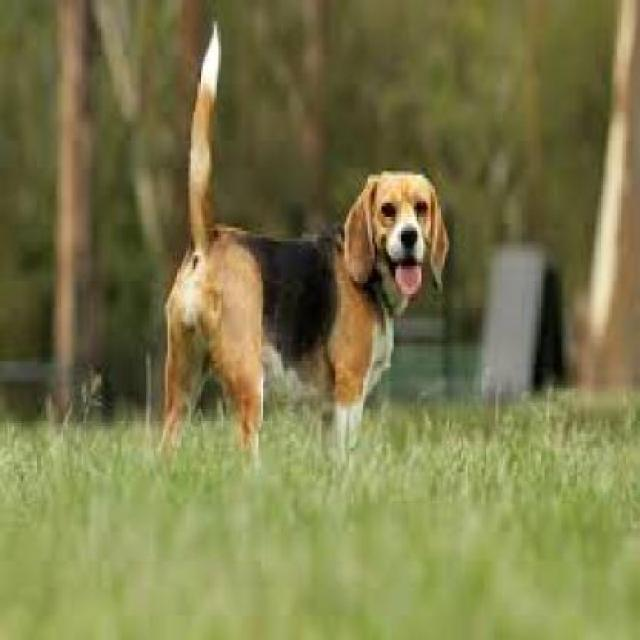Dog: (154, 23, 452, 491)
